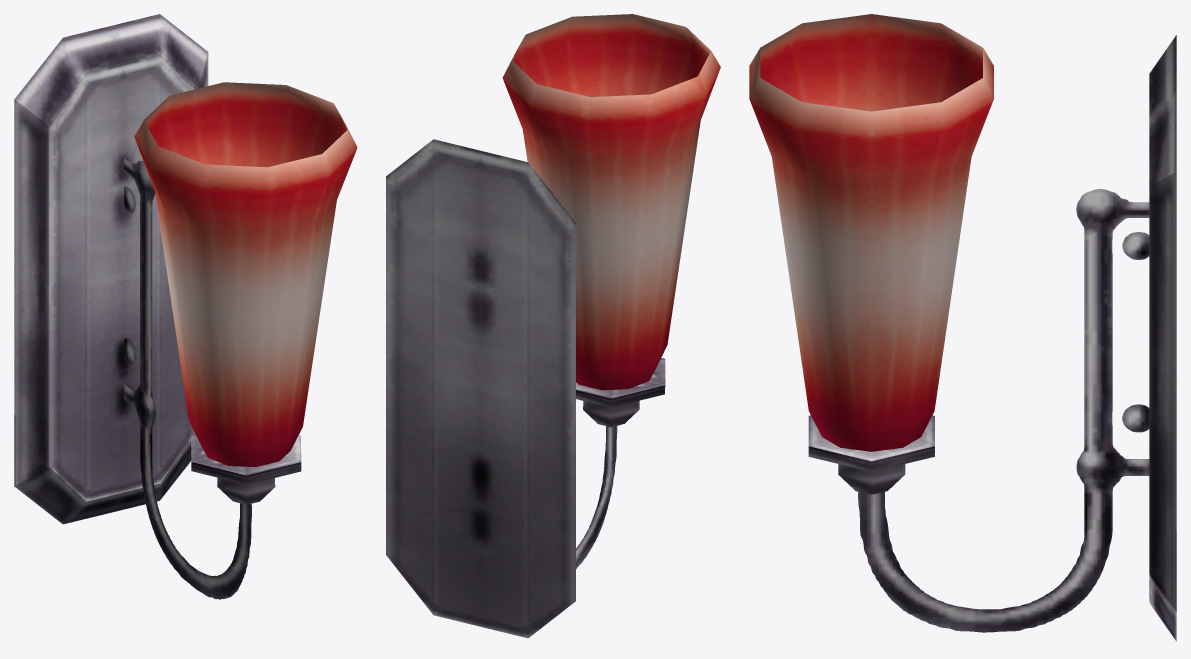
File: furni_0201100_02.FBX
3 views of the same model, side by side, from view 1: azimuth 30°, elevation 25°; view 2: azimuth 150°, elevation 25°; view 3: azimuth 270°, elevation 25° (orthographic). The views are drawn at different scales.
Visible parts, largest first — view 1: furni_0201100; view 2: furni_0201100; view 3: furni_0201100.
Part boxes in pixels (x1,y1,x2,y2): furni_0201100: (14, 14, 357, 599); furni_0201100: (386, 14, 720, 638); furni_0201100: (749, 14, 1176, 641).
Size of the model in its own units: 20.71 by 52.29 by 34.72.
1 material, 1 textured.
